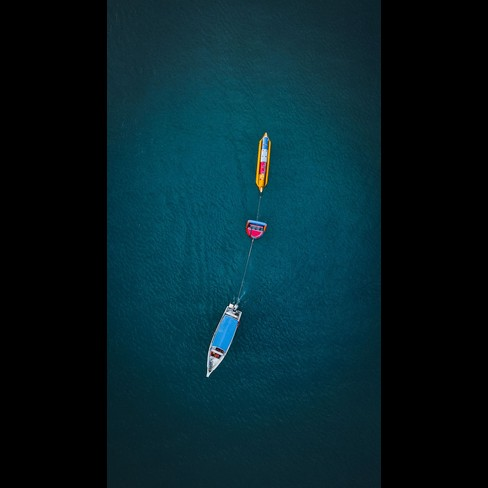boat: (200, 300, 245, 381), (252, 129, 276, 198), (241, 215, 274, 248)
